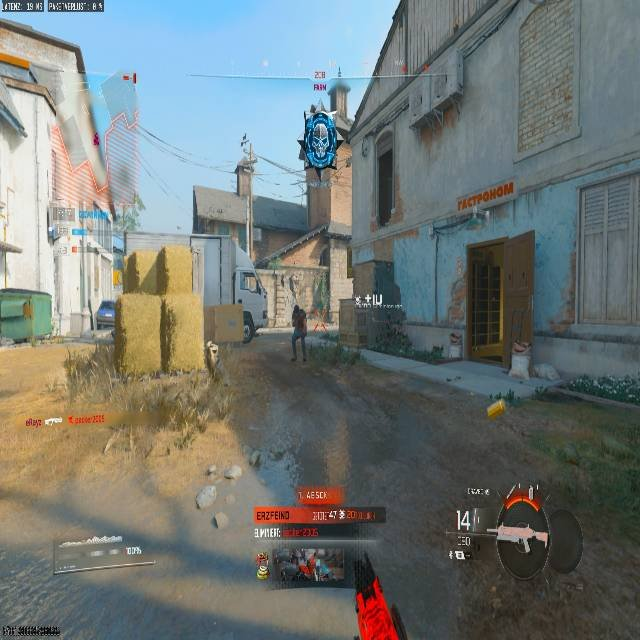head: (293, 304, 301, 311)
player: (288, 304, 308, 361)
